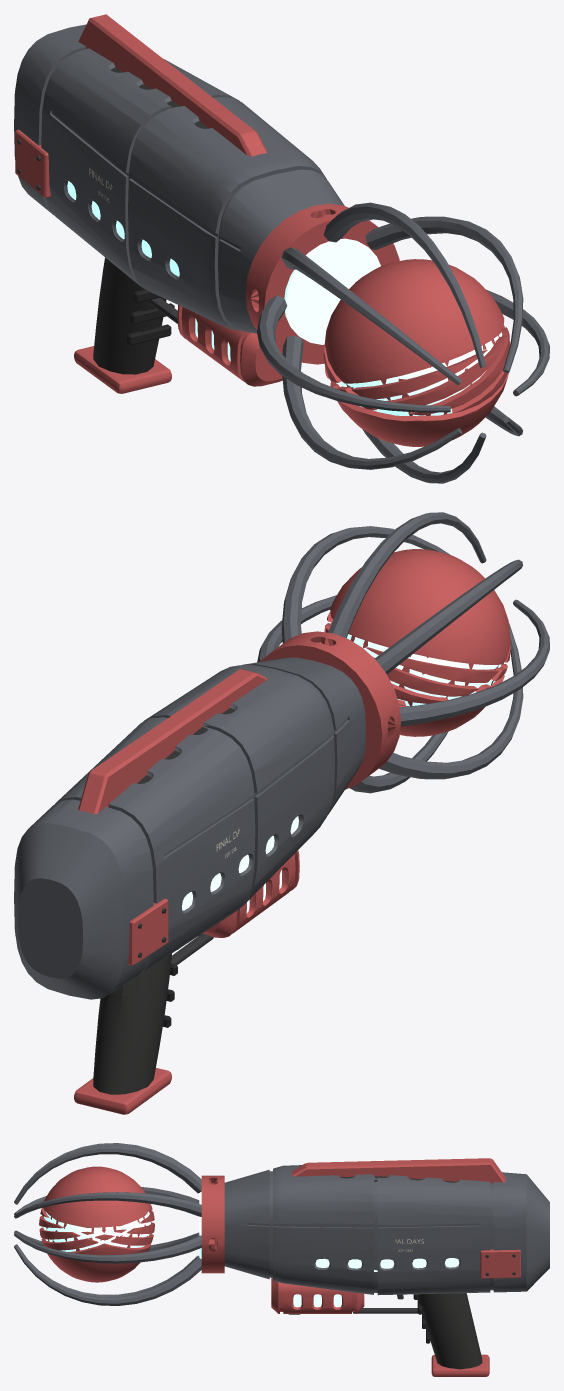
File: finaldays.glb
3 views of the same model, one above another, from view 1: azimuth 30°, elevation 25°; view 2: azimuth 150°, elevation 25°; view 3: azimuth 270°, elevation 25° (orthographic). The views are drawn at different scales.
Visible parts, largest first — view 1: Body; view 2: Body; view 3: Body.
Part boxes in pixels (x1=…): Body: x1=14, y1=14, x2=549, y2=483; Body: x1=14, y1=512, x2=549, y2=1114; Body: x1=14, y1=1143, x2=549, y2=1376.
Bounding box in the file's own units: 0.1495 × 0.2129 × 0.4615.
